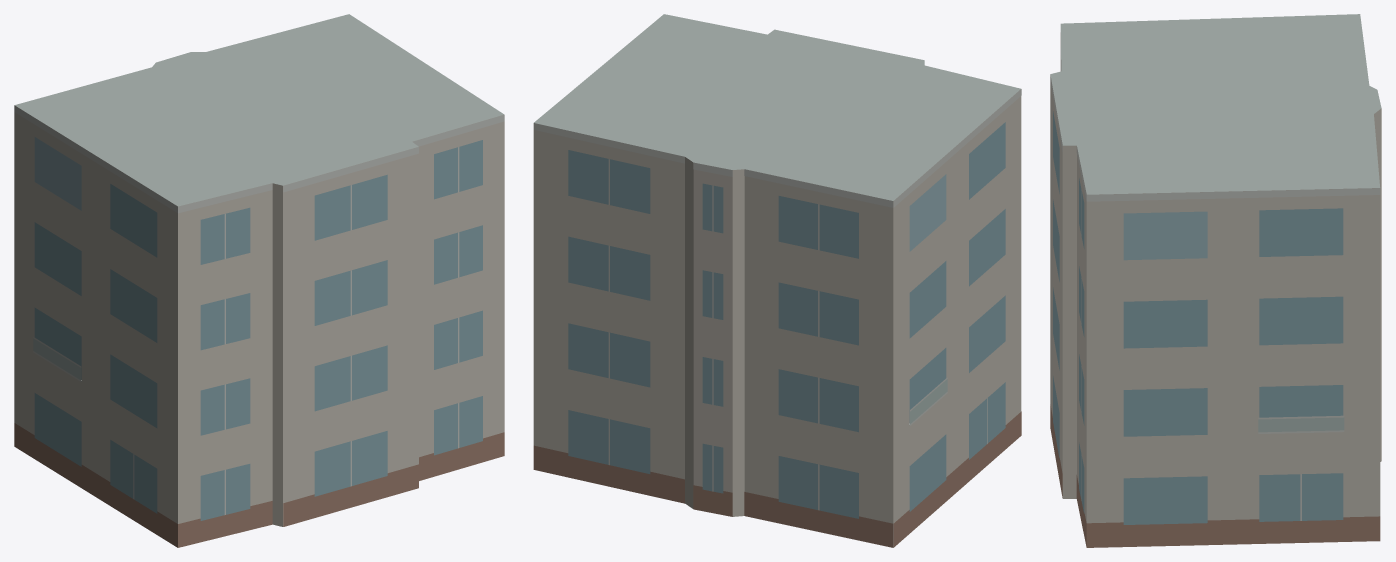
Rendered from survey-upis-32967302.glb.
The picture shows the model from 3 angles, left to right: view 1: azimuth 30°, elevation 25°; view 2: azimuth 150°, elevation 25°; view 3: azimuth 270°, elevation 25°; orthographic projection. The views are drawn at different scales.
Visible parts, largest first — view 1: survey-upis-32967302.tmp; view 2: survey-upis-32967302.tmp; view 3: survey-upis-32967302.tmp.
Boxes of the visible parts, x1=… form: survey-upis-32967302.tmp: x1=14, y1=14, x2=504, y2=547; survey-upis-32967302.tmp: x1=533, y1=14, x2=1021, y2=547; survey-upis-32967302.tmp: x1=1050, y1=14, x2=1381, y2=547.
Size of the model in its own units: 13.4 by 12.2 by 10.38.
